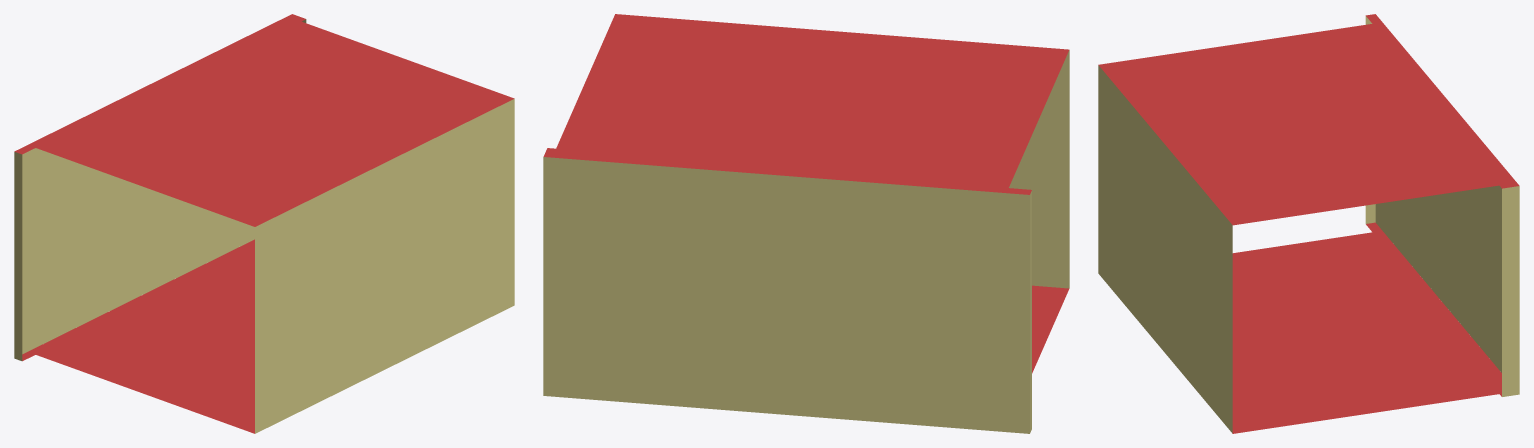
3 views of the same model, side by side, from view 1: azimuth 30°, elevation 25°; view 2: azimuth 150°, elevation 25°; view 3: azimuth 270°, elevation 25° (orthographic). The views are drawn at different scales.
Parts seen in each view (by area): view 1: group_4, group_3, group_5; view 2: group_4, group_3, group_5; view 3: group_3, group_4, group_5.
Part boxes in pixels (x1=…): group_4: x1=14, y1=19, x2=514, y2=433; group_3: x1=14, y1=14, x2=514, y2=226; group_5: x1=22, y1=239, x2=254, y2=433; group_4: x1=543, y1=50, x2=1069, y2=433; group_3: x1=543, y1=14, x2=1068, y2=194; group_5: x1=1032, y1=285, x2=1068, y2=373; group_3: x1=1098, y1=14, x2=1519, y2=225; group_4: x1=1098, y1=16, x2=1519, y2=433; group_5: x1=1232, y1=222, x2=1501, y2=433.
Size of the model in its own units: 13.3 by 11.2 by 6.12.
